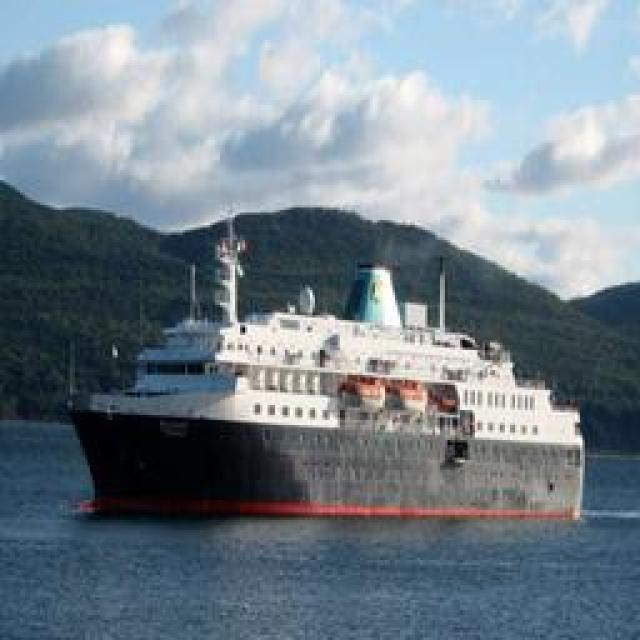CIV_Ship: (61, 228, 561, 514)
